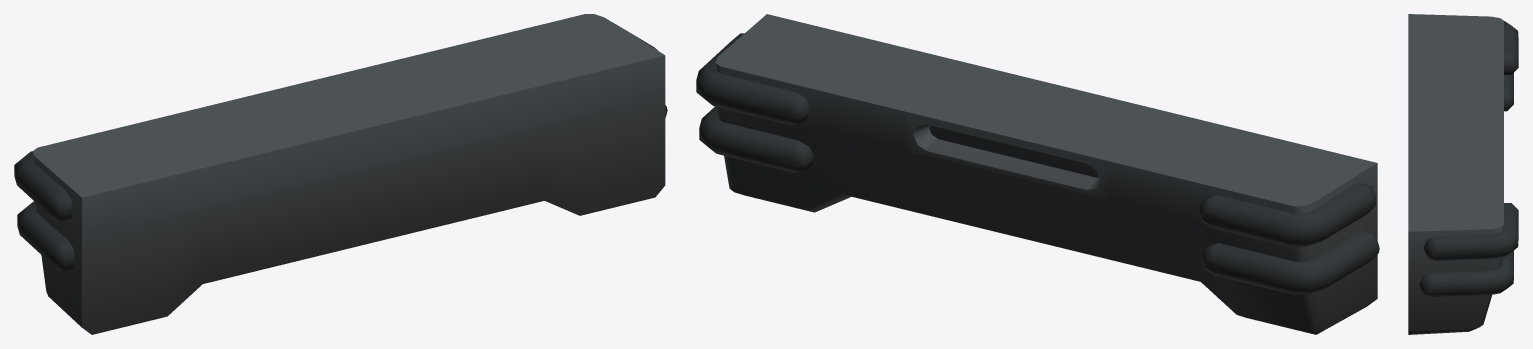
The model's file is Car_05_RearBumper_Cool.fbx.
The picture shows the model from 3 angles, left to right: view 1: azimuth 30°, elevation 25°; view 2: azimuth 150°, elevation 25°; view 3: azimuth 270°, elevation 25°; orthographic projection. The views are drawn at different scales.
Visible parts, largest first — view 1: Car_05_RearBumper_Cool; view 2: Car_05_RearBumper_Cool; view 3: Car_05_RearBumper_Cool.
Boxes of the visible parts, bbox=[...] form: Car_05_RearBumper_Cool: bbox=[14, 14, 667, 334]; Car_05_RearBumper_Cool: bbox=[696, 14, 1379, 334]; Car_05_RearBumper_Cool: bbox=[1408, 14, 1518, 334].
Size of the model in its own units: 203 by 41.15 by 44.03.
